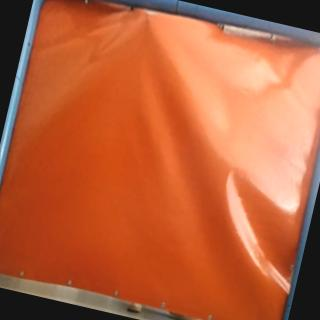Hit-hRxx: (142, 13, 154, 24)
